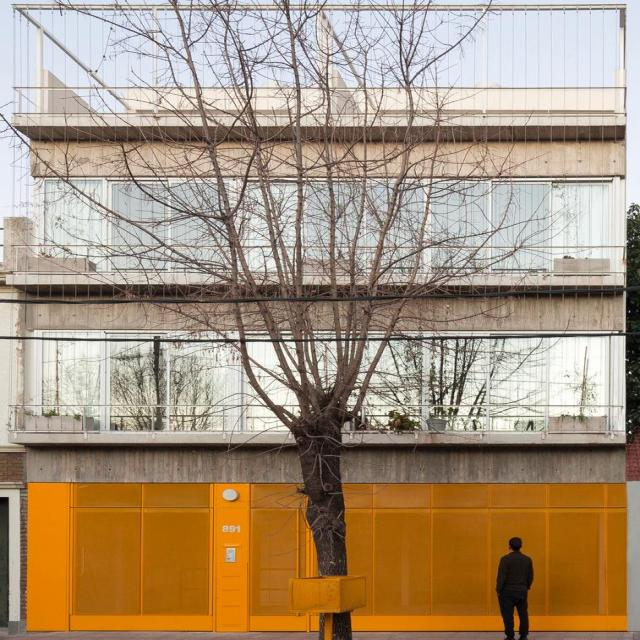Railing: (8, 6, 615, 112)
wall: (6, 3, 624, 632)
windows: (30, 328, 606, 432), (30, 177, 602, 273)
